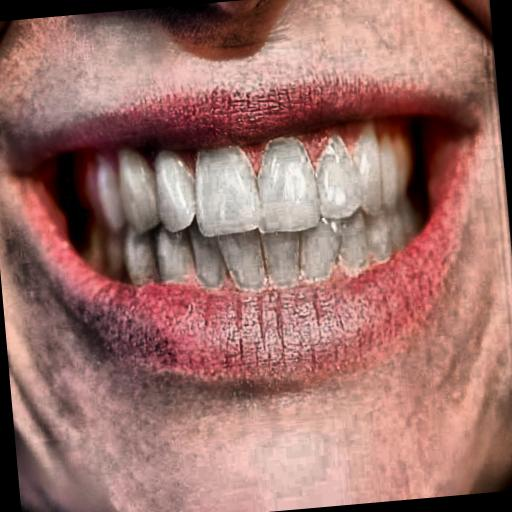Healthy: (82, 70, 472, 329)
